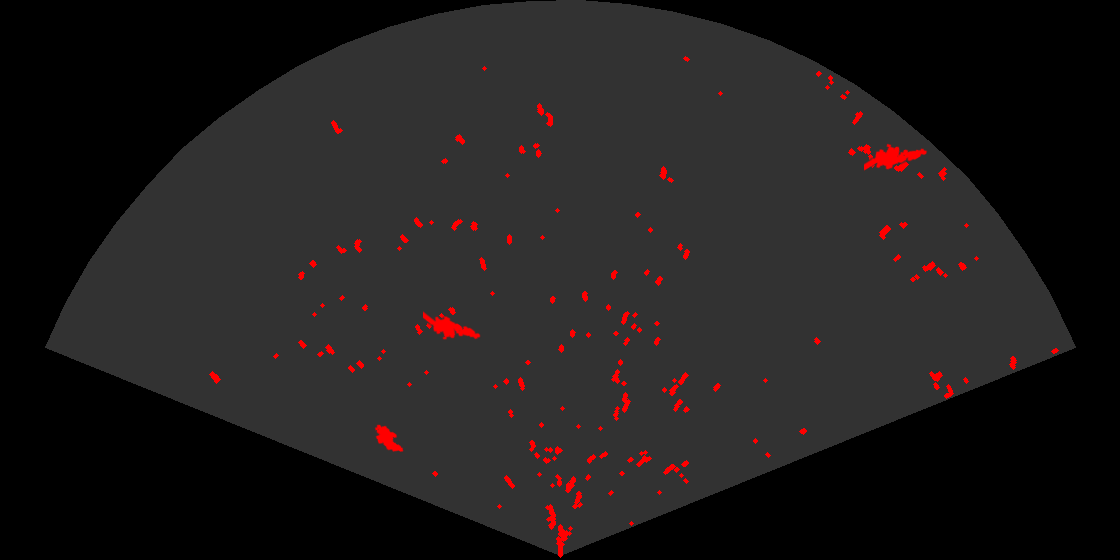AUV: (373, 423, 405, 453)
frogman: (864, 142, 929, 172), (423, 310, 482, 341)
